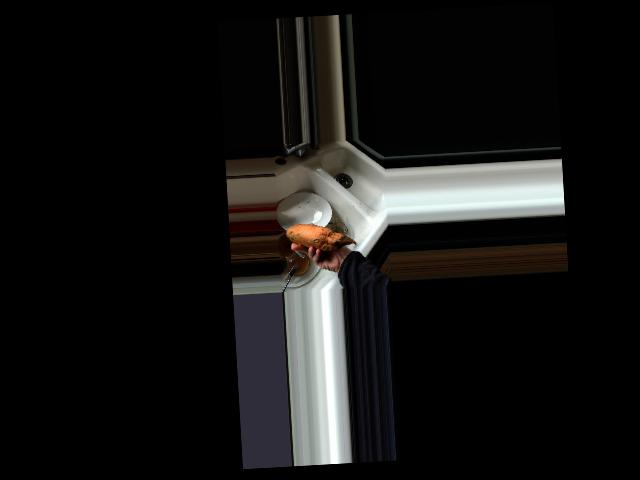sweet_potato: (286, 219, 357, 253)
